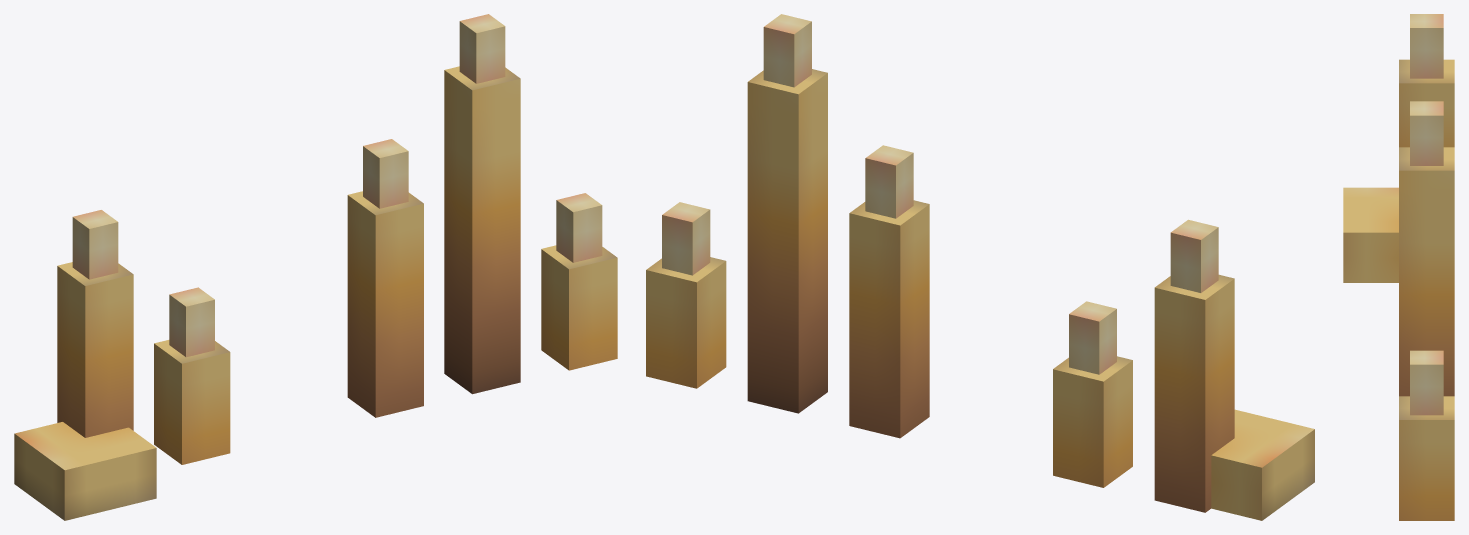
The model's file is candle_arrangement_03_lit.fbx.
3 views of the same model, side by side, from view 1: azimuth 30°, elevation 25°; view 2: azimuth 150°, elevation 25°; view 3: azimuth 270°, elevation 25° (orthographic). The views are drawn at different scales.
Parts seen in each view (by area): view 1: candle_arrangement_03_lit; view 2: candle_arrangement_03_lit; view 3: candle_arrangement_03_lit.
Boxes of the visible parts, box(x1,y1,x2,y2) form: candle_arrangement_03_lit: box(14, 14, 617, 520); candle_arrangement_03_lit: box(646, 14, 1314, 520); candle_arrangement_03_lit: box(1343, 14, 1454, 520).
Size of the model in its own units: 12 by 7 by 2.
